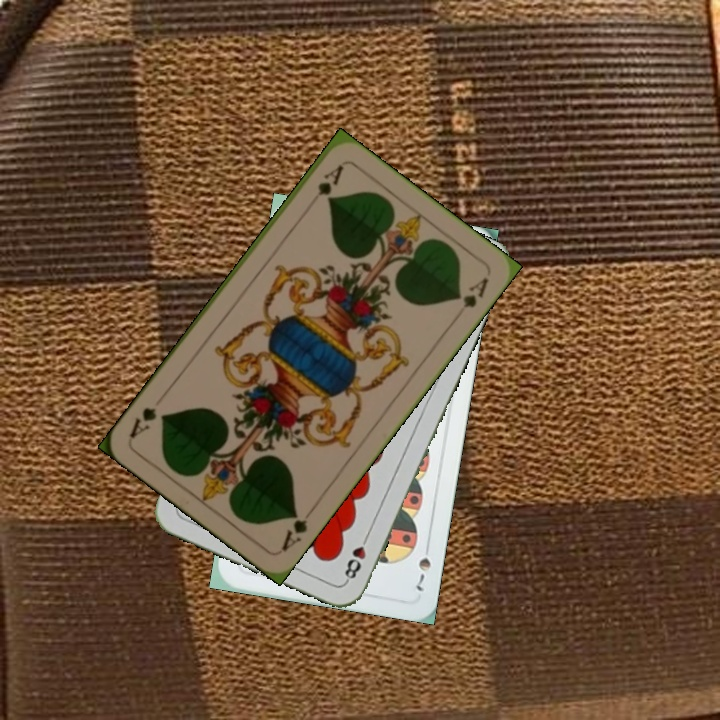GA: (303, 160, 346, 211), (277, 504, 317, 554)
H8: (340, 528, 373, 584)
S7: (411, 537, 434, 594)
